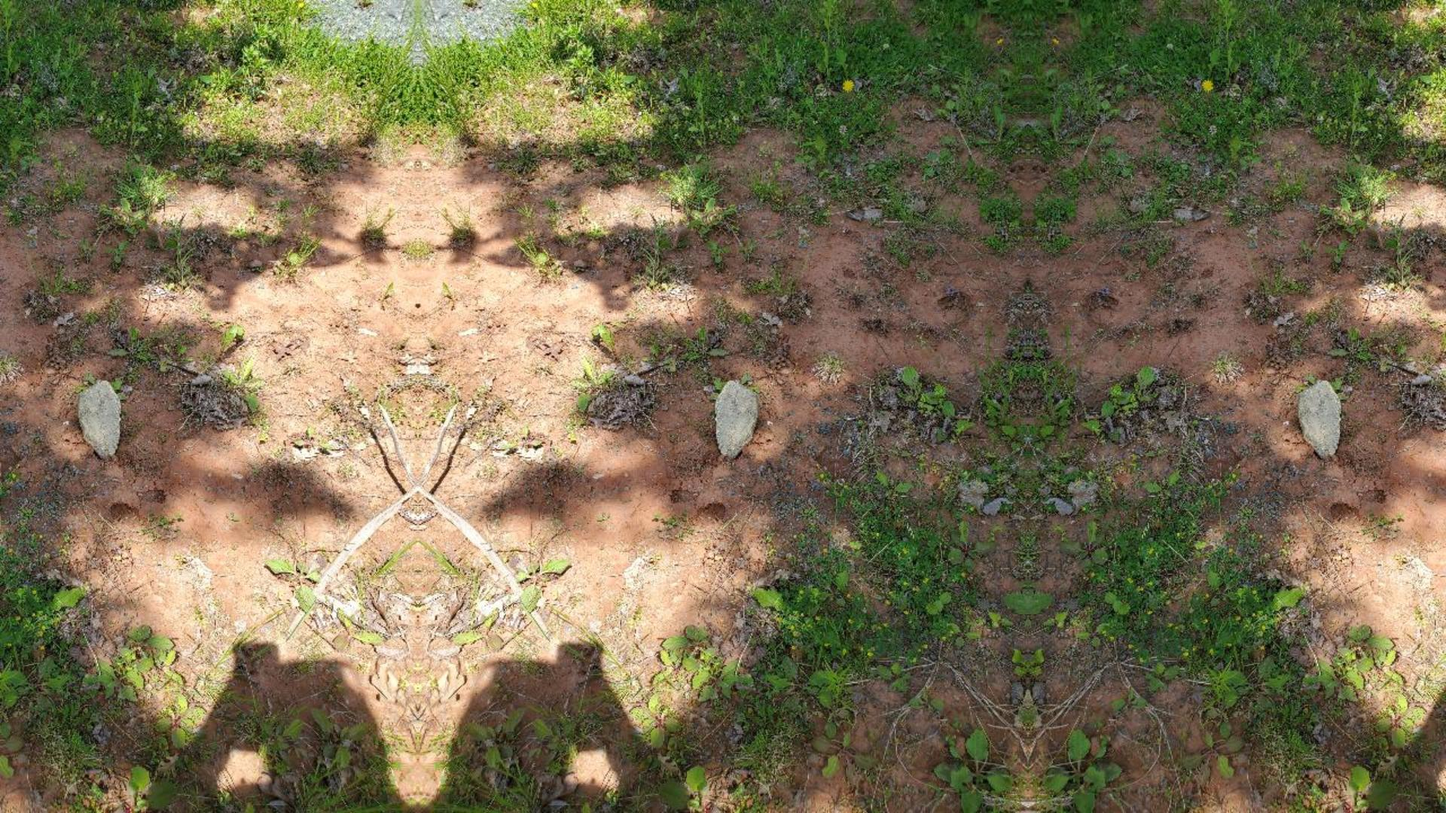rock: (1297, 381, 1341, 458), (715, 381, 758, 458), (78, 381, 120, 458)
